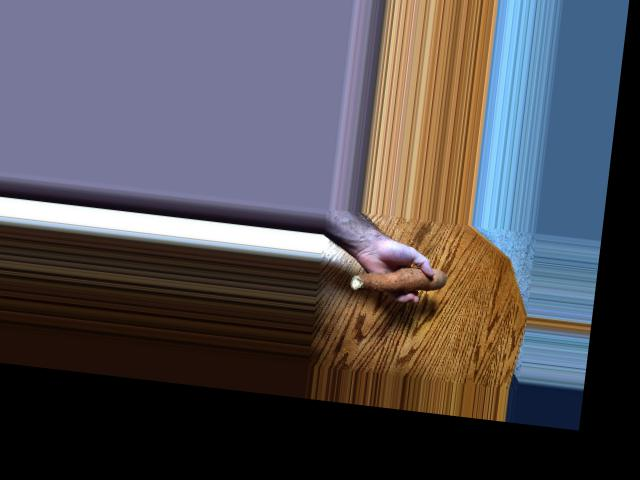sweet_potato: (352, 259, 446, 297)
